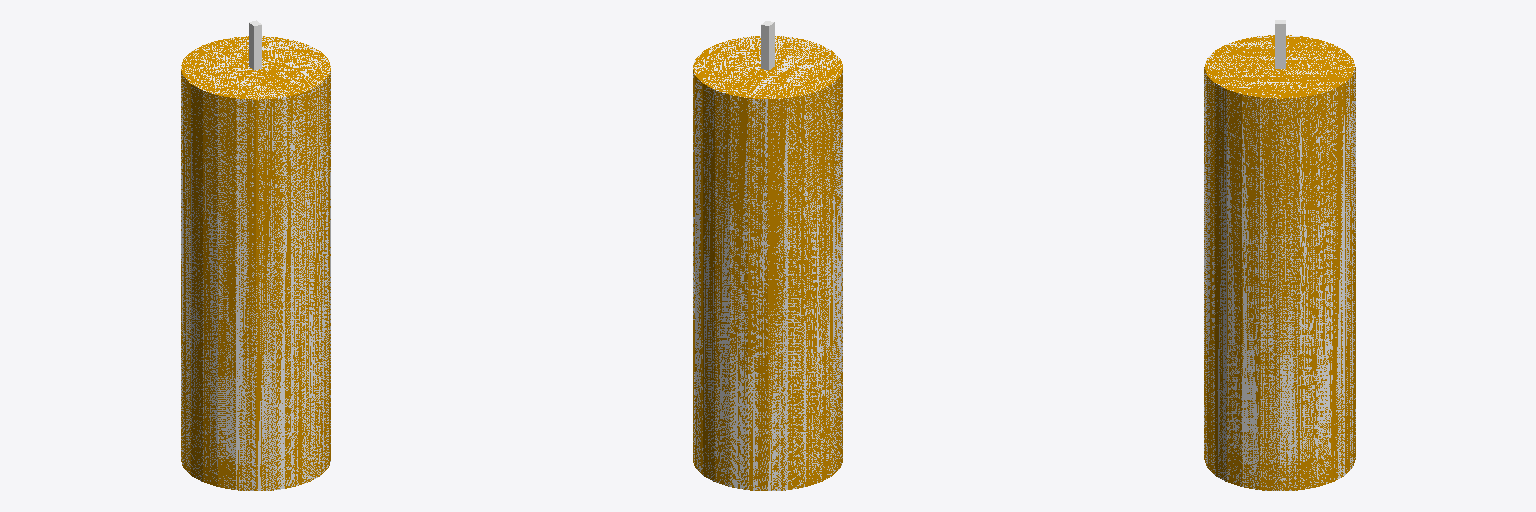
The robot description file, URDF, robot "my_object":
<?xml version="1.0" ?> 
<robot name="my_object" static="true">
  <link name="base_link">
  <inertial>
    <mass value="0.589" />
    <origin xyz="0 0 0.0" />
    <inertia ixx="1.0" ixy="0.0" ixz="0.0" iyy="1.0" iyz="0.0" izz="1.0"/>
  </inertial>
  <visual>
   <origin xyz="0 0 0.0" rpy="0 0 0" />
   <geometry>
     <mesh filename="package://cob_gazebo_objects/Media/models/thick_candle.dae"/>
   </geometry>
  </visual>
  <collision>
   <origin xyz="0 0 0.0" rpy="0 0 0" />
   <geometry>
     <mesh filename="package://cob_gazebo_objects/Media/models/thick_candle.dae" />
   </geometry>
  </collision>     
  </link>

<gazebo>
	<static>true</static>
</gazebo>
</robot>

--- Facts derived from the render (not from the file) ---
3 views of the same robot in one strip: view 1: azimuth 30°, elevation 25°; view 2: azimuth 150°, elevation 25°; view 3: azimuth 270°, elevation 25° (orthographic).
Model my_object with 1 links and 0 joints (none), rooted at base_link, posed all joints at 0.
Visible links, largest first — view 1: base_link; view 2: base_link; view 3: base_link.
Link boxes in pixels (<box>): base_link: <box>181,20,330,490</box>; base_link: <box>693,21,842,490</box>; base_link: <box>1204,20,1355,490</box>.
Size in the robot's own frame: 0.0017 by 0.0017 by 0.0055 metres.
Meshes: 1 distinct files referenced, 1 mesh visuals loaded (1 Collada DAE).